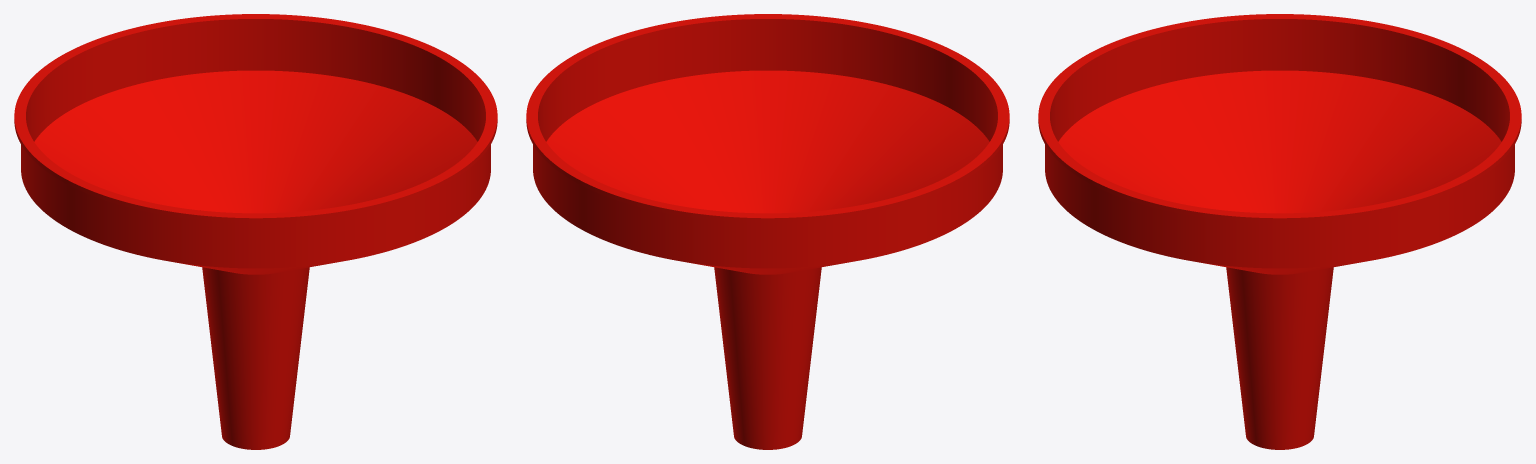
The model's file is FunnelHP.fbx.
3 renders of one model, left to right at view 1: azimuth 30°, elevation 25°; view 2: azimuth 150°, elevation 25°; view 3: azimuth 270°, elevation 25°, orthographic.
Visible parts, largest first — view 1: Funnel; view 2: Funnel; view 3: Funnel.
Part boxes in pixels (box(x1,y1,x2,y2)): Funnel: box(14, 14, 497, 449); Funnel: box(526, 14, 1009, 449); Funnel: box(1038, 14, 1521, 449).
Bounding box in the file's own units: 1245 × 908 × 1245.
